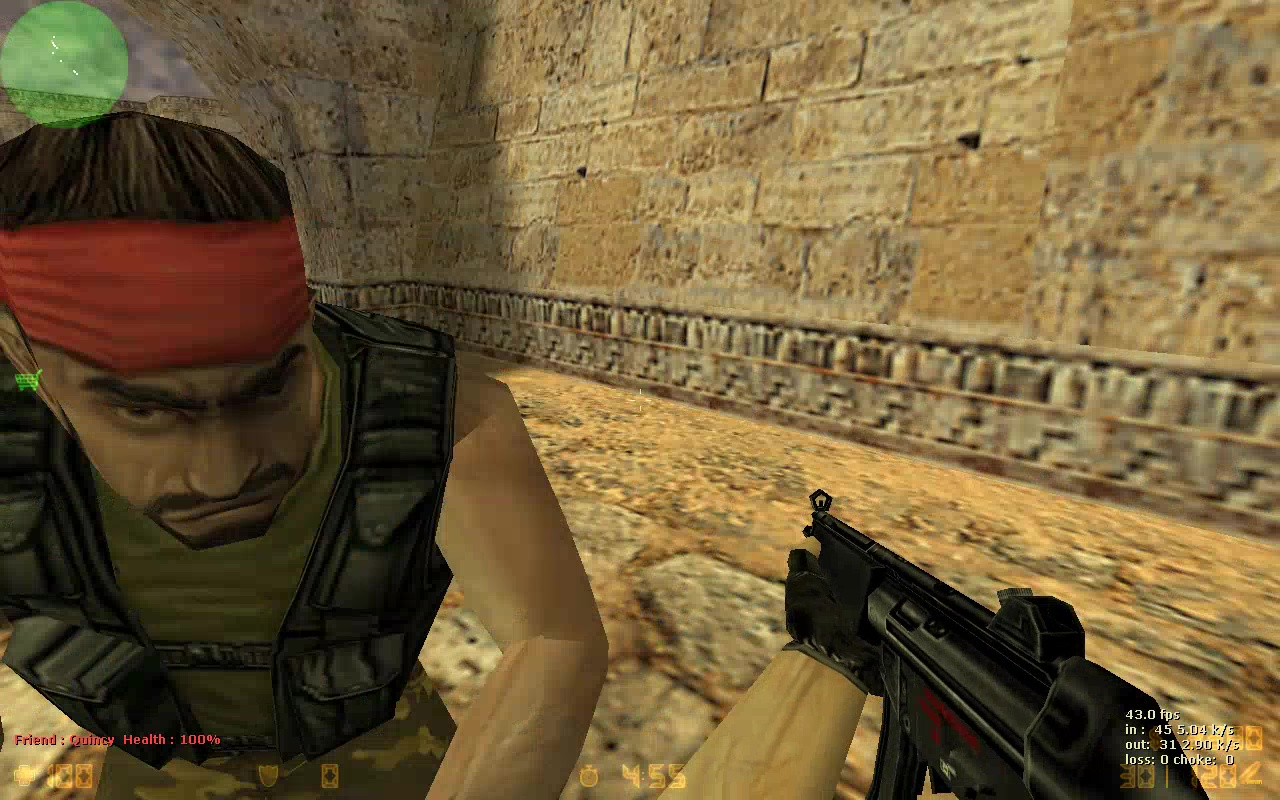terr1: (1, 102, 605, 797)
